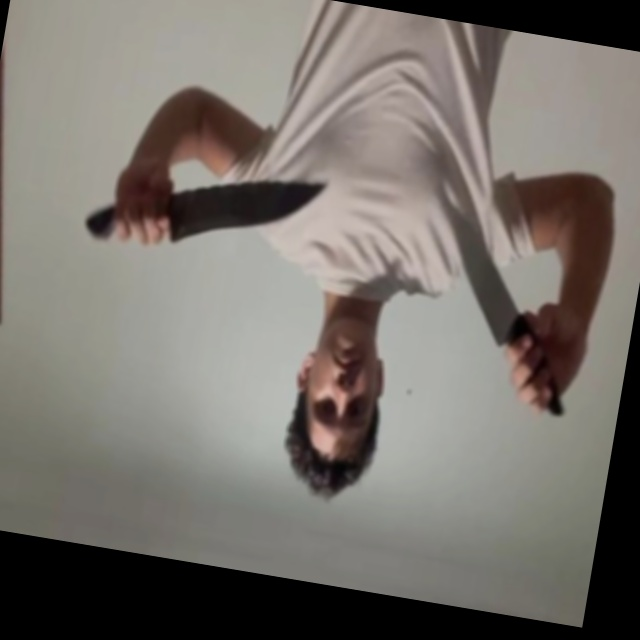Sharp-Object: (166, 161, 325, 267), (435, 219, 529, 352)
